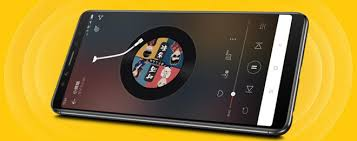lenovo: (49, 6, 310, 140)
